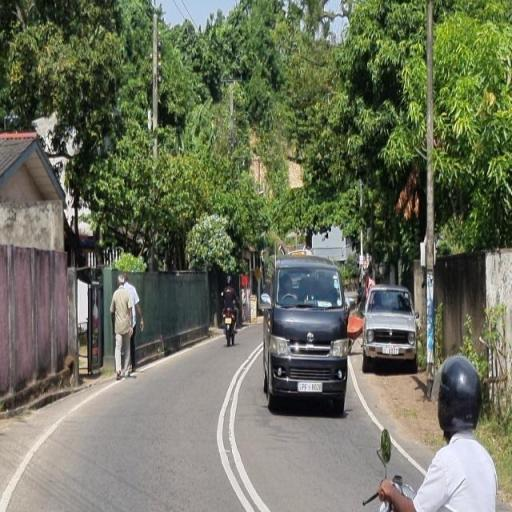double_white_line: (216, 341, 266, 511)
